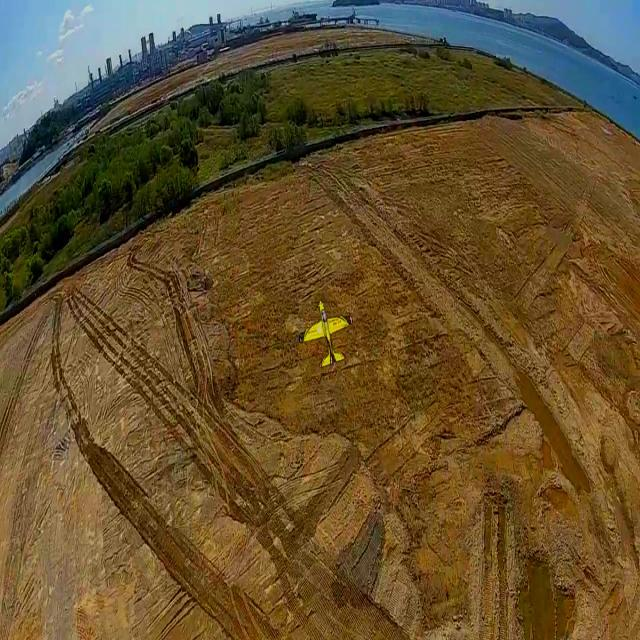iha: (313, 323, 330, 347)
